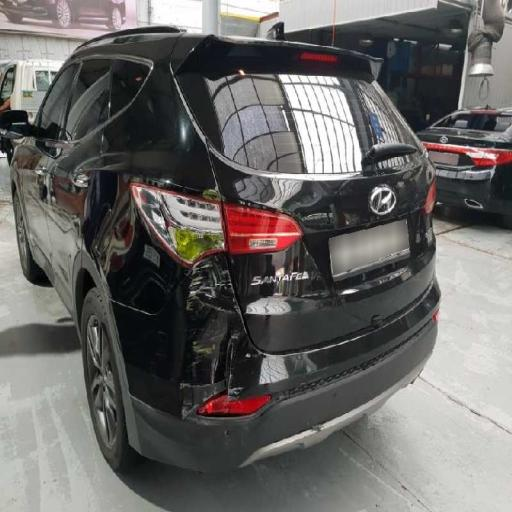scratch: (120, 163, 304, 431)
